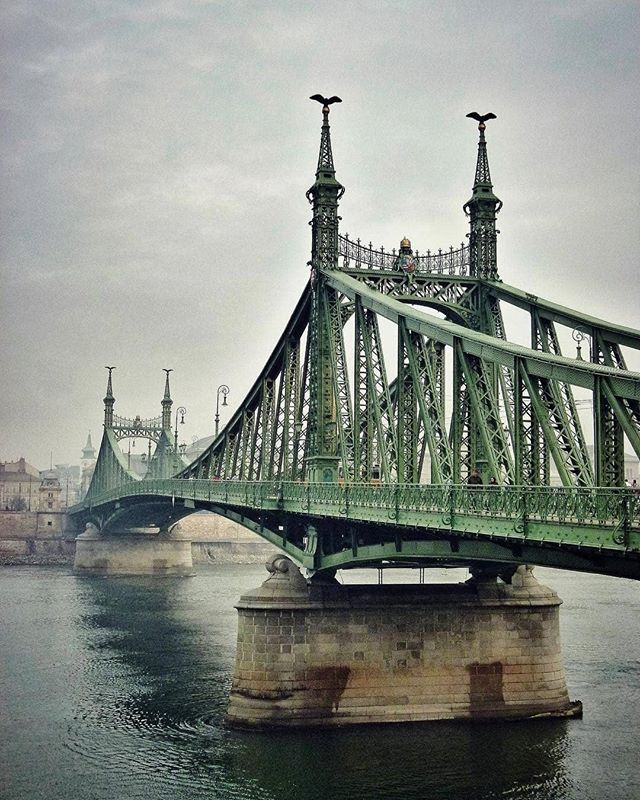bridge: (99, 354, 640, 771)
river: (1, 569, 633, 800)
sky: (1, 1, 640, 313)
